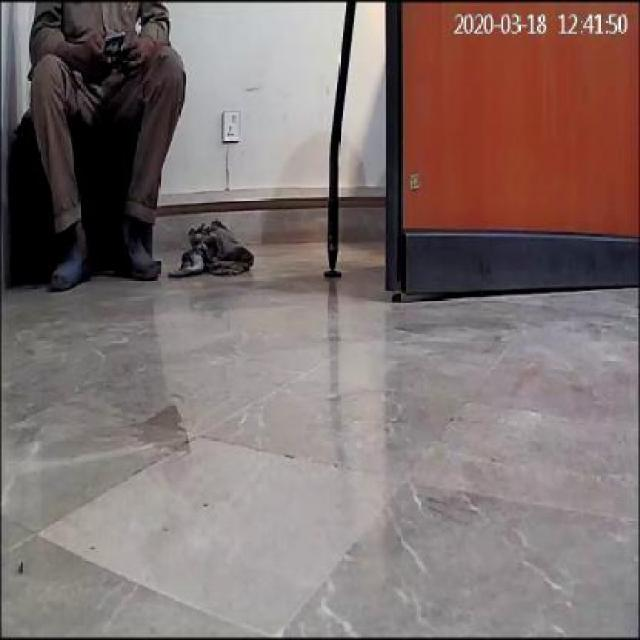spill: (122, 384, 230, 458)
